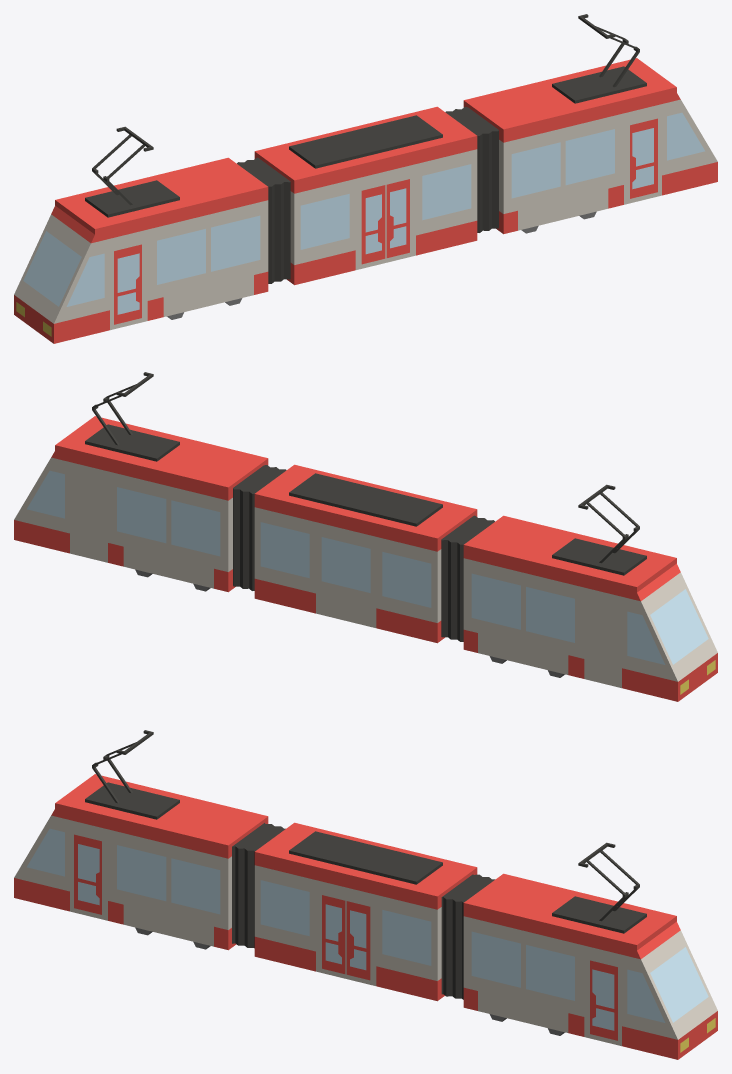
File: Tram_2.fbx
3 views of the same model, one above another, from view 1: azimuth 30°, elevation 25°; view 2: azimuth 150°, elevation 25°; view 3: azimuth 330°, elevation 25° (orthographic).
Parts seen in each view (by area): view 1: Tram_2; view 2: Tram_2; view 3: Tram_2.
Part boxes in pixels (x1,y1,x2,y2): Tram_2: (14, 14, 717, 343); Tram_2: (14, 372, 717, 701); Tram_2: (14, 730, 717, 1059).
Bounding box in the file's own units: 28.05 × 7.04 × 2.92.
1 material, 1 textured.
